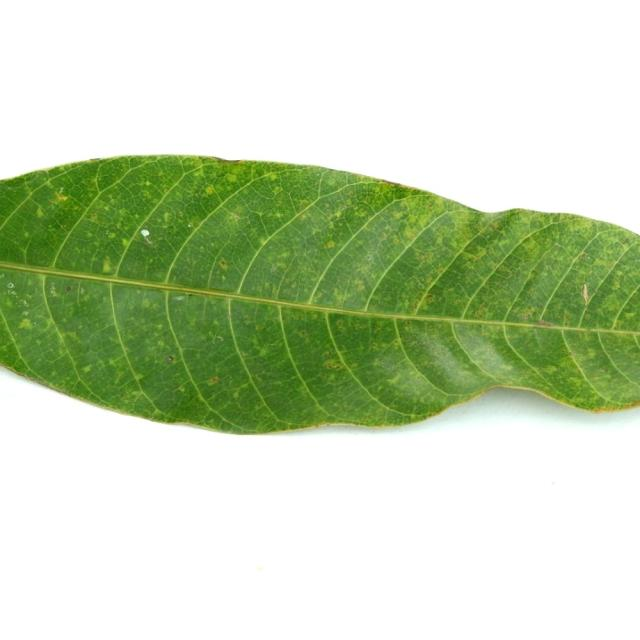Mango: (0, 156, 639, 433)
Powdery_Mildew: (396, 322, 489, 393), (565, 326, 640, 402), (450, 322, 529, 387), (530, 323, 554, 352), (254, 279, 284, 300), (99, 258, 120, 284), (414, 248, 437, 263), (333, 288, 352, 306), (108, 354, 125, 368), (521, 239, 538, 253), (323, 359, 344, 370), (379, 178, 406, 186), (76, 278, 83, 308), (516, 307, 535, 318), (141, 229, 154, 245), (102, 257, 113, 274), (18, 318, 33, 330), (141, 297, 156, 309), (261, 172, 279, 182), (326, 210, 342, 221), (410, 299, 423, 312), (402, 227, 416, 239), (389, 373, 404, 384), (55, 191, 69, 202), (582, 283, 589, 305), (258, 346, 270, 358), (354, 280, 366, 292), (193, 168, 205, 180), (474, 308, 487, 319), (35, 205, 45, 219), (49, 283, 59, 297), (536, 320, 555, 327), (208, 286, 230, 292), (163, 211, 173, 224), (226, 173, 239, 183), (55, 221, 69, 230), (156, 328, 170, 337), (474, 248, 486, 258), (296, 329, 309, 338), (121, 237, 131, 248), (204, 185, 215, 195), (219, 260, 229, 271), (89, 212, 99, 223), (279, 249, 290, 259), (611, 281, 622, 291), (354, 210, 365, 220), (132, 373, 144, 382), (624, 311, 636, 320), (207, 376, 219, 385), (563, 310, 570, 325), (227, 303, 233, 320), (336, 320, 346, 330), (586, 348, 597, 357), (366, 252, 375, 263), (392, 210, 404, 218), (5, 299, 14, 309), (273, 185, 283, 194), (491, 221, 501, 230), (270, 263, 279, 273), (82, 365, 93, 373), (326, 240, 335, 249), (156, 340, 165, 349), (255, 324, 265, 332), (243, 316, 253, 324), (425, 294, 435, 302), (213, 335, 223, 343), (257, 238, 266, 246), (472, 254, 481, 262), (230, 212, 239, 220), (170, 385, 181, 391), (232, 390, 240, 398), (155, 323, 163, 331), (107, 232, 116, 239), (328, 221, 335, 229), (144, 180, 152, 187), (178, 386, 186, 393), (275, 212, 283, 219), (615, 270, 623, 277), (380, 232, 388, 239), (581, 252, 589, 259), (392, 339, 400, 346), (166, 355, 174, 362), (173, 296, 184, 301), (213, 319, 220, 326), (326, 349, 333, 356), (23, 231, 29, 239), (9, 289, 17, 295), (221, 274, 227, 281), (7, 282, 14, 288), (418, 285, 425, 291), (405, 320, 412, 326), (22, 300, 29, 306), (80, 287, 85, 295), (66, 286, 72, 292), (22, 311, 29, 316), (623, 242, 630, 247), (427, 359, 434, 364), (525, 341, 531, 346), (479, 324, 484, 329), (0, 274, 5, 279), (59, 187, 63, 193), (187, 293, 193, 297), (188, 223, 192, 228), (163, 224, 168, 228), (106, 231, 109, 235)
